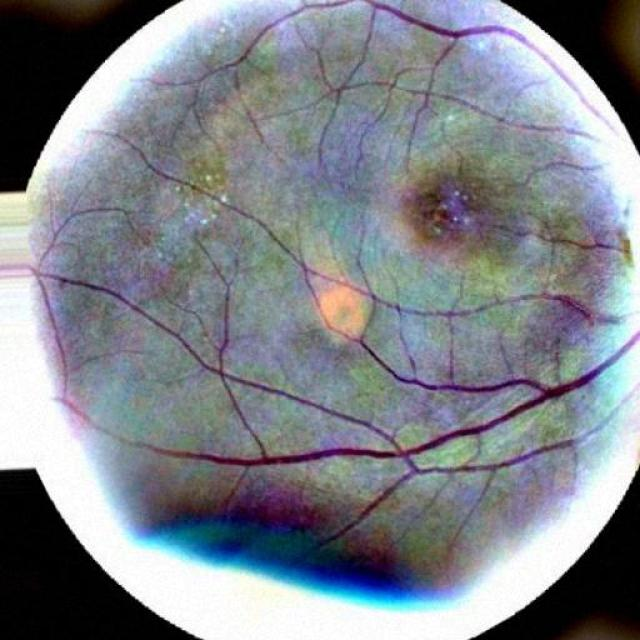Macula: (404, 176, 491, 260)
Nerves: (164, 338, 639, 471), (195, 185, 625, 324), (363, 3, 605, 124)
